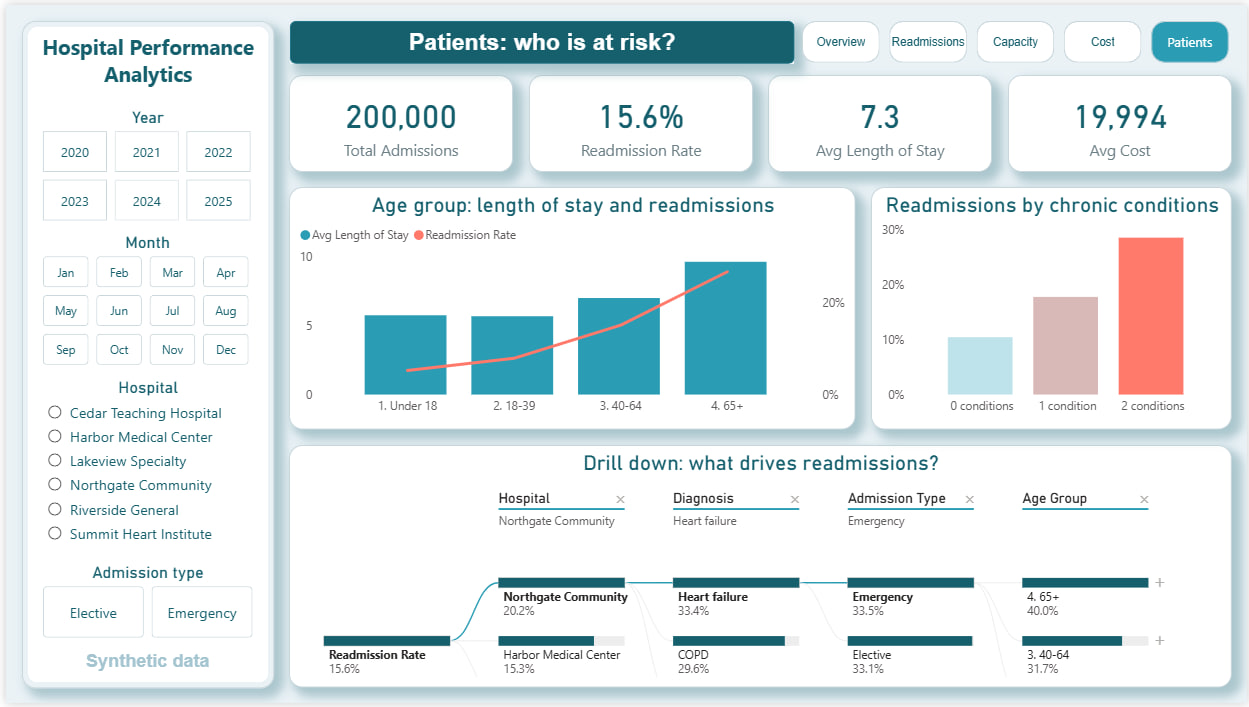

This screenshot's page, from the dashboard's own definition file:
{"tool":"powerbi","page":{"name":"Patients","canvas":[1280,720],"ordinal":4},"visuals":[{"type":"shape","box":[16,16,260,688],"z":0},{"type":"textbox","box":[16,24,260,80],"z":1000},{"type":"listSlicer","title":"Hospital","fields":{"Values":["dim_hospital.hospital_name"]},"box":[35.9,383.3,220.8,231.6],"z":2000},{"type":"advancedSlicerVisual","fields":{"Values":["Date Table.Year"]},"box":[35.9,104.1,220,120.3],"z":3000},{"type":"advancedSlicerVisual","fields":{"Values":["Date Table.Month"]},"box":[35.9,232.5,220,140],"z":4000},{"type":"advancedSlicerVisual","title":"Admission type","fields":{"Values":["fact_admissions.admission_type"]},"box":[35.9,573.7,220.8,81.7],"z":5000},{"type":"card","fields":{"Values":["fact_admissions.Avg Length of Stay"]},"box":[786,72,231,100],"z":6000},{"type":"card","fields":{"Values":["fact_admissions.Total Admissions"]},"box":[292,72,231,100],"z":7000},{"type":"card","fields":{"Values":["fact_admissions.Avg Cost"]},"box":[1033,72,231,100],"z":8000},{"type":"card","fields":{"Values":["fact_admissions.Readmission Rate"]},"box":[539,72,231,100],"z":9000},{"type":"shape","box":[292.7,16.2,520,44],"z":10000},{"type":"lineStackedColumnComboChart","title":"Age group: length of stay and readmissions","fields":{"Category":["fact_admissions.Age Group"],"Y":["fact_admissions.Avg Length of Stay"],"Y2":["fact_admissions.Readmission Rate"]},"box":[292,188,584,250],"z":11000},{"type":"decompositionTreeVisual","title":"Drill down: what drives readmissions?","fields":{"Analyze":["fact_admissions.Readmission Rate"],"ExplainBy":["dim_hospital.hospital_name","dim_diagnosis.diagnosis","fact_admissions.admission_type","fact_admissions.Age Group","dim_patient.Chronic Conditions"]},"box":[292,454,972,250],"z":12000},{"type":"columnChart","title":"Readmissions by chronic conditions","fields":{"Category":["dim_patient.Chronic Conditions"],"Y":["fact_admissions.Readmission Rate"]},"box":[892,188,372,250],"z":13000},{"type":"shape","box":[36.8,661.6,218.2,30.5],"z":14000},{"type":"pageNavigator","box":[820.5,16.2,443.5,44],"z":15000}]}

Visuals, with their boxes in screenshot pixels (x1, y1, x2, y2), scaled from the page's 1280x720 canvas onto the 1249x707 screenshot:
shape: bbox(16, 16, 269, 691)
textbox: bbox(16, 24, 269, 102)
"Hospital" listSlicer: bbox(35, 376, 250, 604)
advancedSlicerVisual - Date Table.Year: bbox(35, 102, 250, 220)
advancedSlicerVisual - Date Table.Month: bbox(35, 228, 250, 366)
"Admission type" advancedSlicerVisual: bbox(35, 563, 250, 644)
card - fact_admissions.Avg Length of Stay: bbox(767, 71, 992, 169)
card - fact_admissions.Total Admissions: bbox(285, 71, 510, 169)
card - fact_admissions.Avg Cost: bbox(1008, 71, 1233, 169)
card - fact_admissions.Readmission Rate: bbox(526, 71, 751, 169)
shape: bbox(286, 16, 793, 59)
"Age group: length of stay and readmissions" lineStackedColumnComboChart: bbox(285, 185, 855, 430)
"Drill down: what drives readmissions?" decompositionTreeVisual: bbox(285, 446, 1233, 691)
"Readmissions by chronic conditions" columnChart: bbox(870, 185, 1233, 430)
shape: bbox(36, 650, 249, 680)
pageNavigator: bbox(801, 16, 1233, 59)
